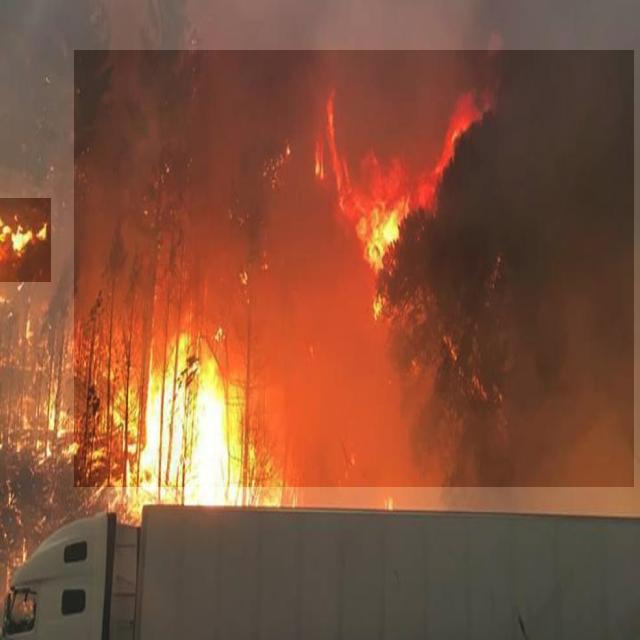Fire: (107, 328, 258, 504), (334, 105, 466, 277), (0, 198, 51, 282)
Smoke: (74, 50, 634, 487)
